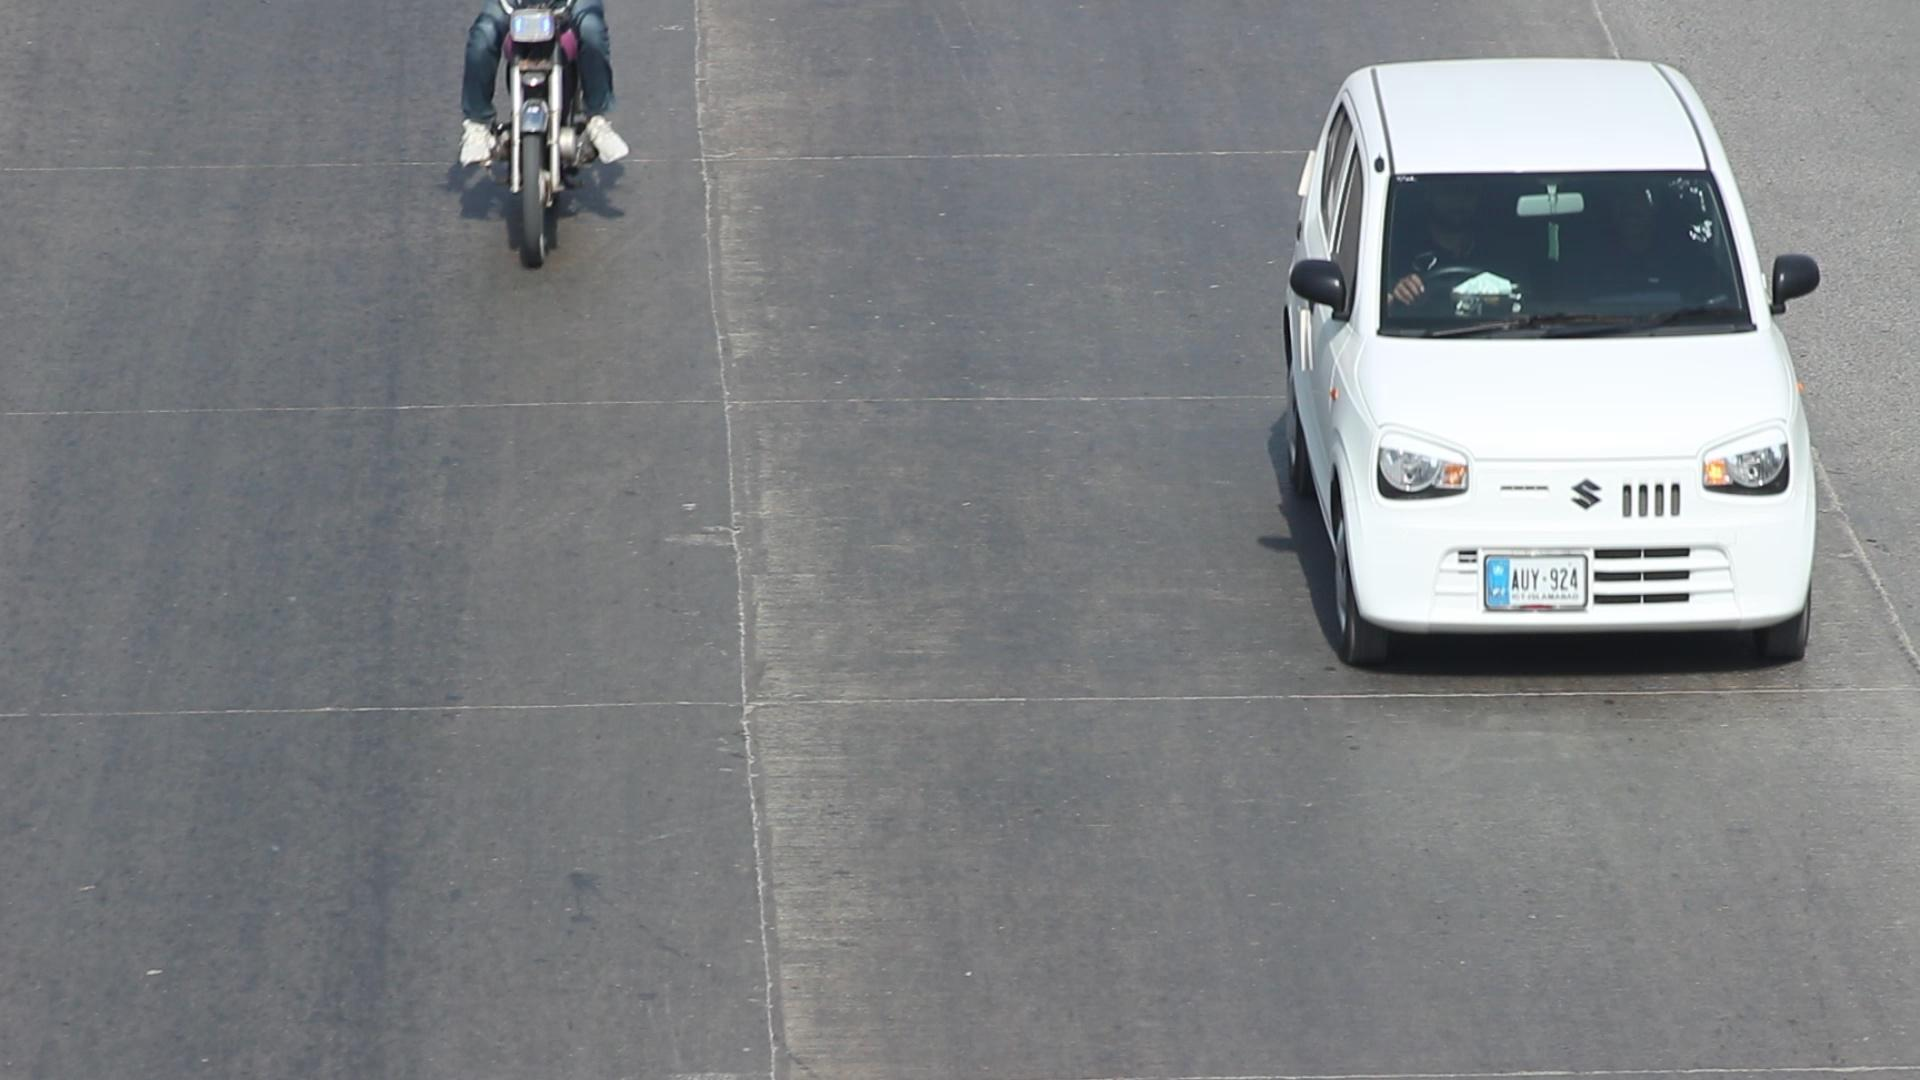windshield: (1381, 150, 1784, 360)
